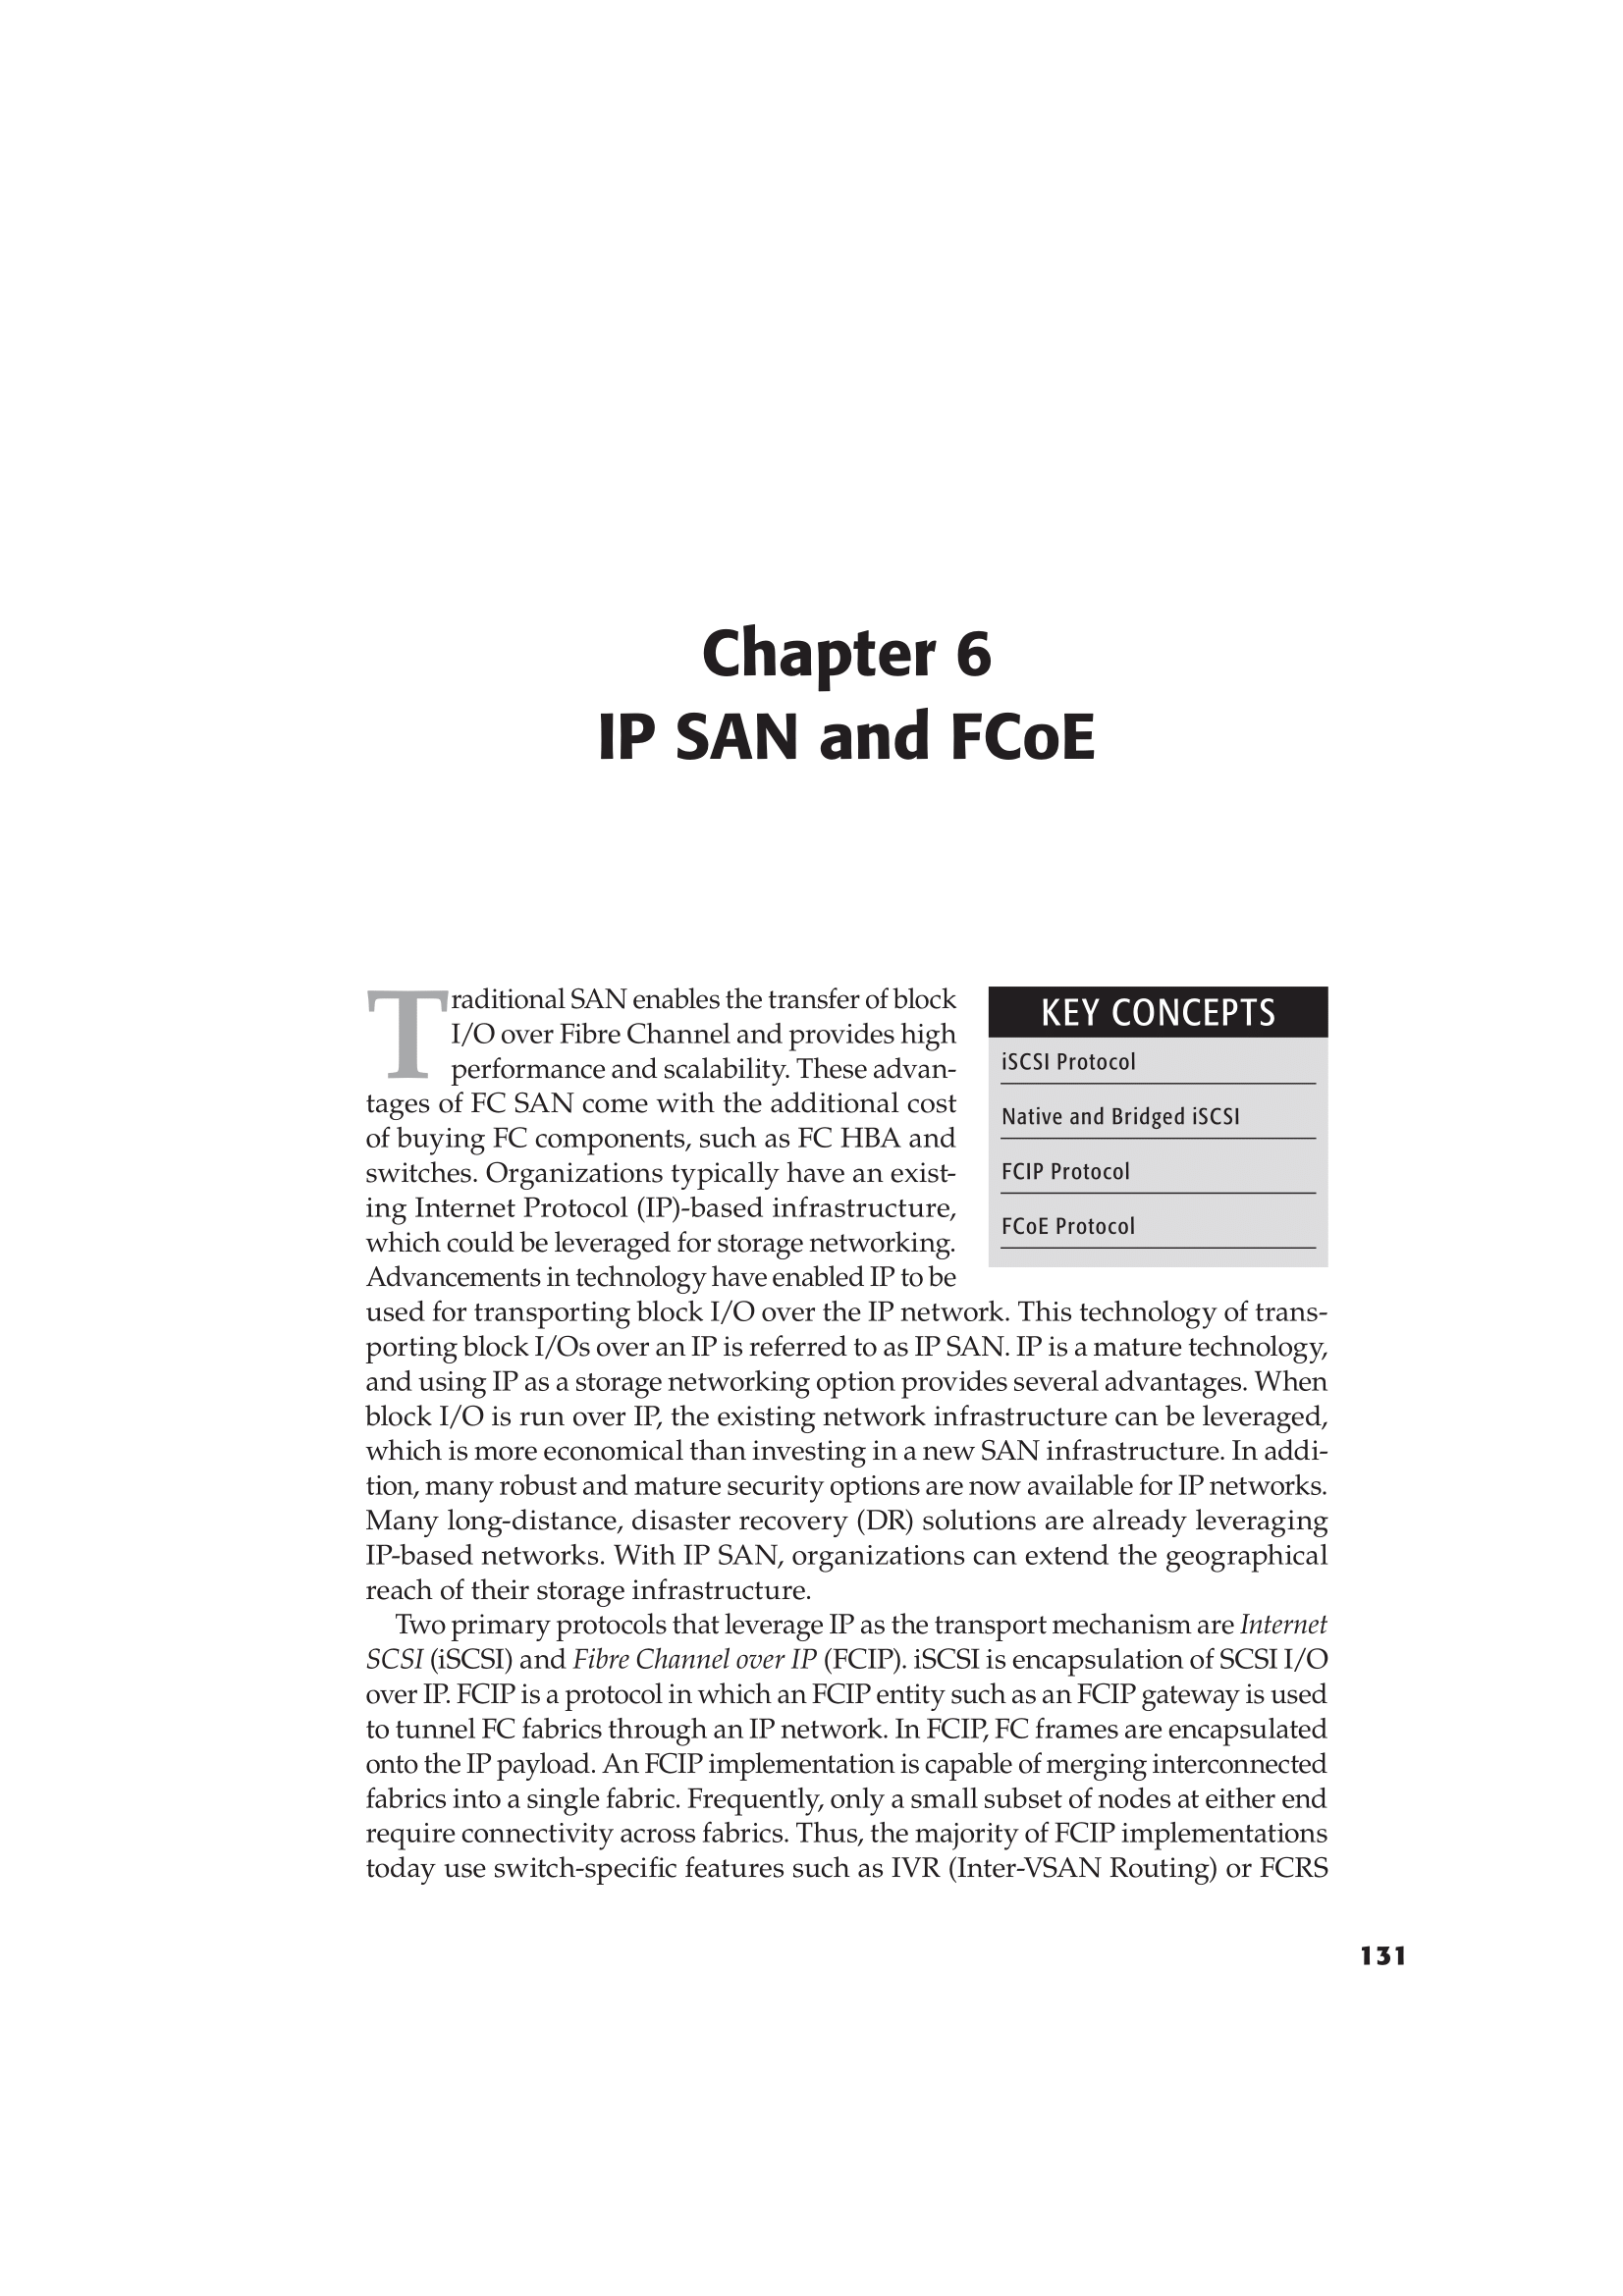Paragraph: (355, 1292, 1337, 1610), (360, 1617, 1342, 1885), (355, 981, 966, 1290), (543, 693, 1133, 781), (662, 607, 1008, 693), (992, 1092, 1245, 1139), (1024, 995, 1280, 1032), (994, 1146, 1136, 1190), (994, 1039, 1145, 1076), (999, 1204, 1142, 1241), (1347, 1917, 1419, 1985)
